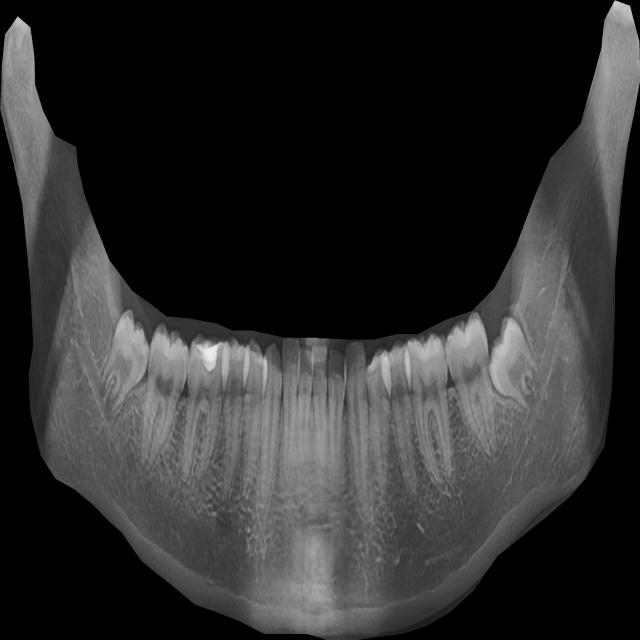mandibula: (0, 0, 640, 640)
